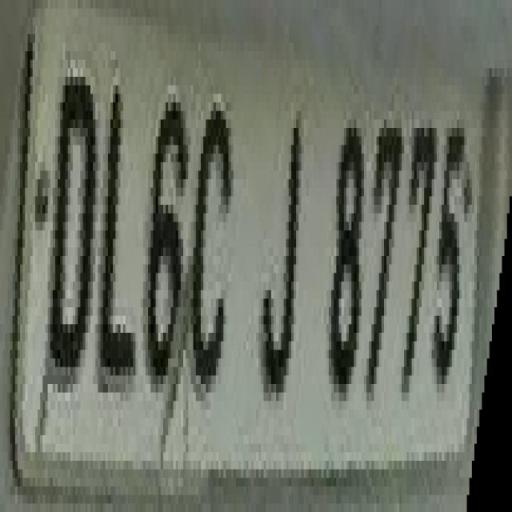number plate: (0, 0, 482, 503)
